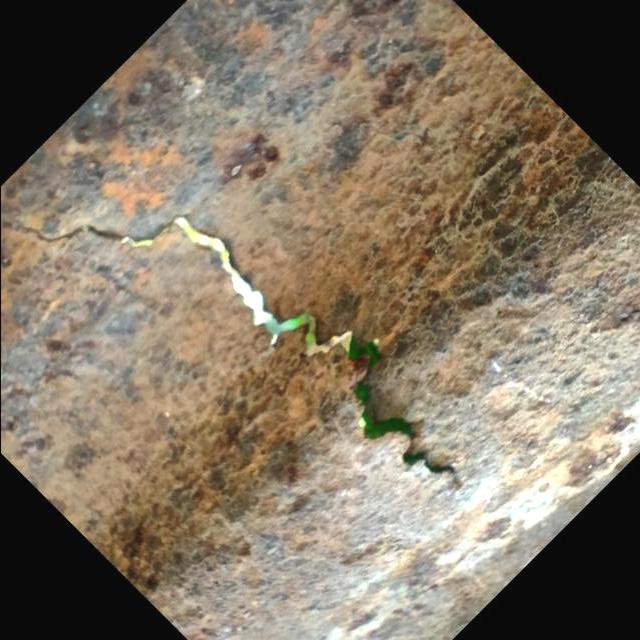defect: (0, 202, 457, 487)
